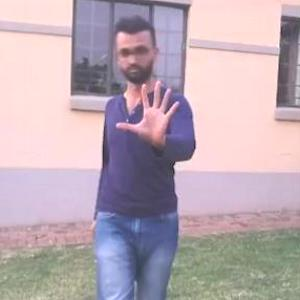follow_hand: (116, 76, 184, 154)
